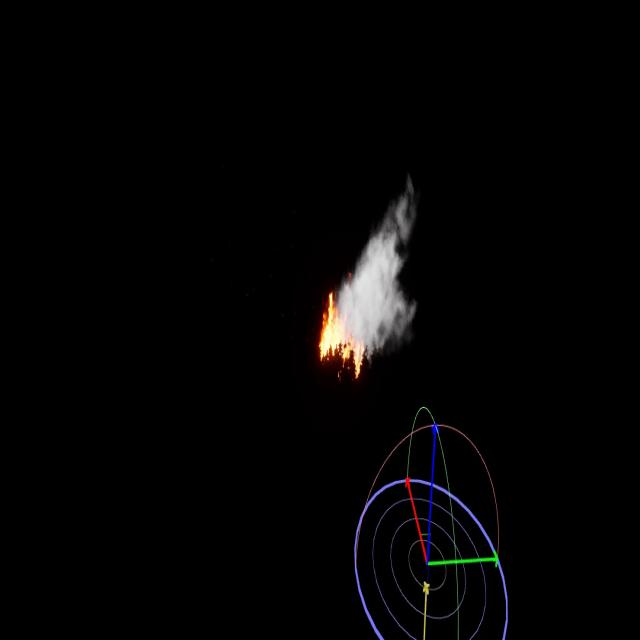fire: (316, 291, 366, 378)
smoke: (338, 186, 418, 349)
